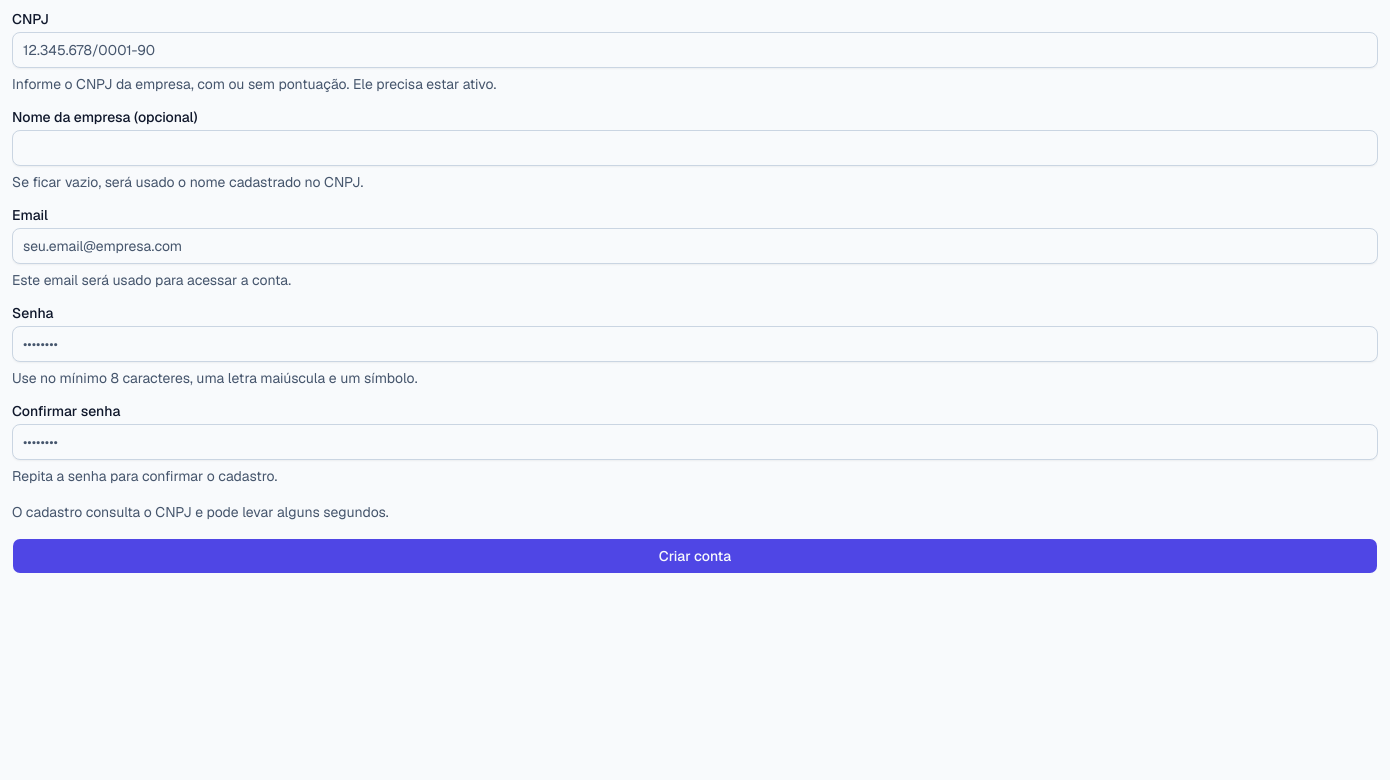
Test case: registration UI › keeps the form and reports action failures
Type "55444333000101" into the field labelled "CNPJ" at coordinates (695, 50), box [12,32,1378,68]
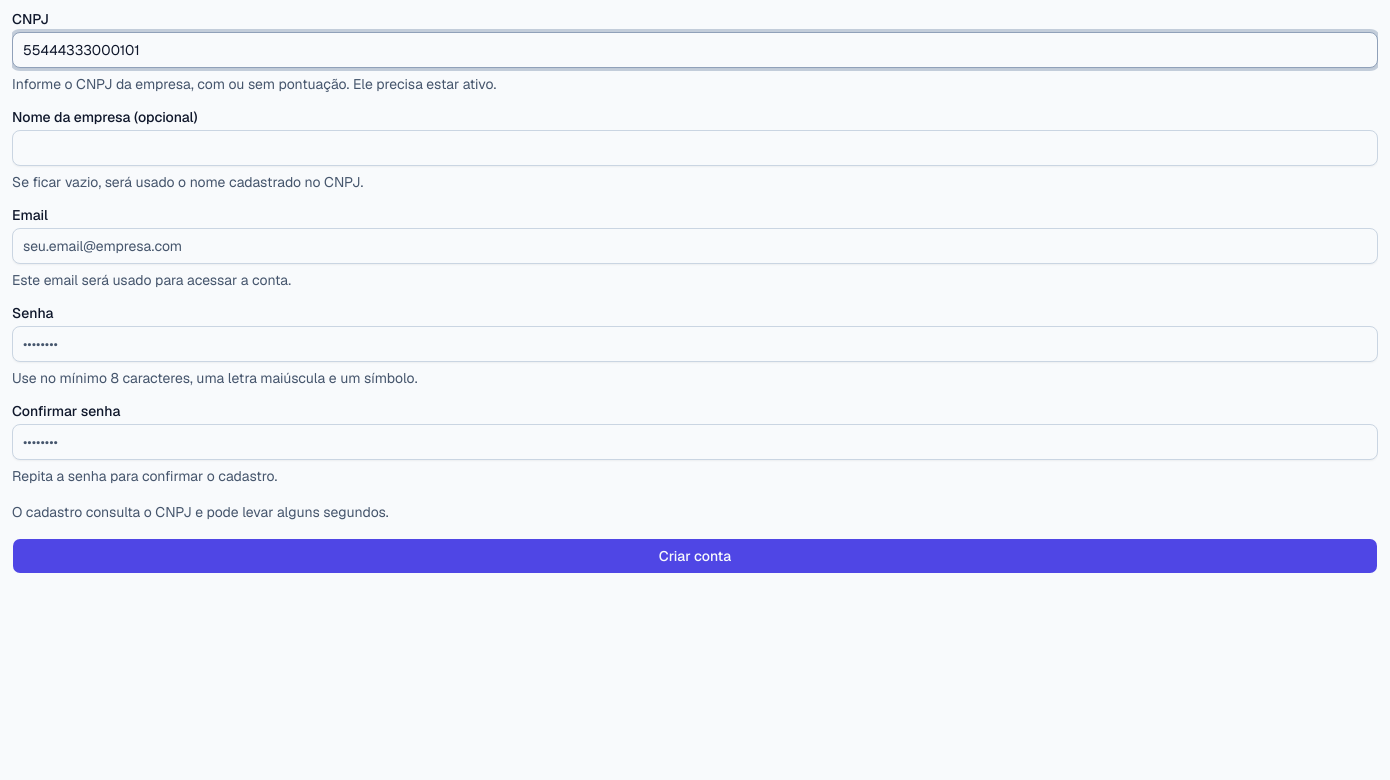
Type "test@example.com" into the field labelled "Email" at coordinates (695, 246), box [12,228,1378,264]
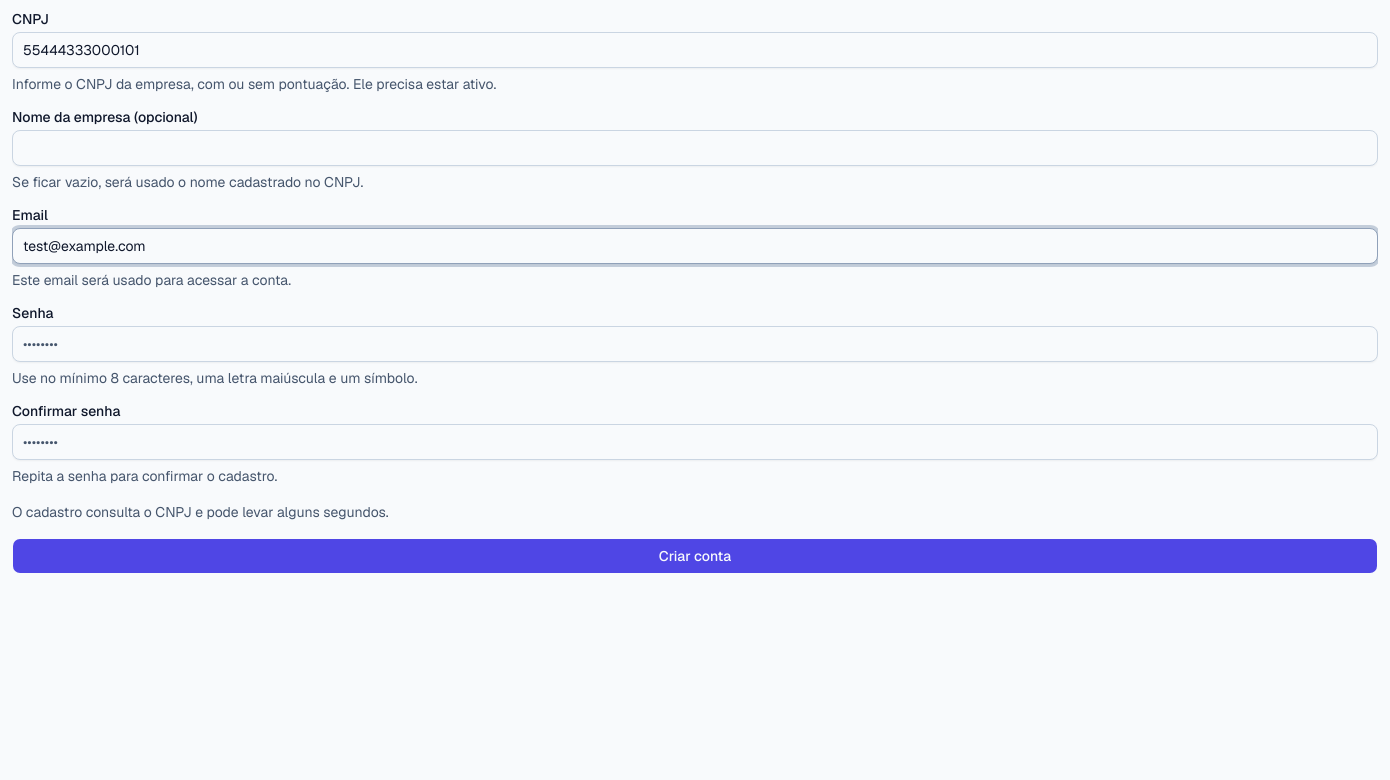
Type "Test-password!" into the password field labelled "Senha" at coordinates (695, 344), box [12,326,1378,362]
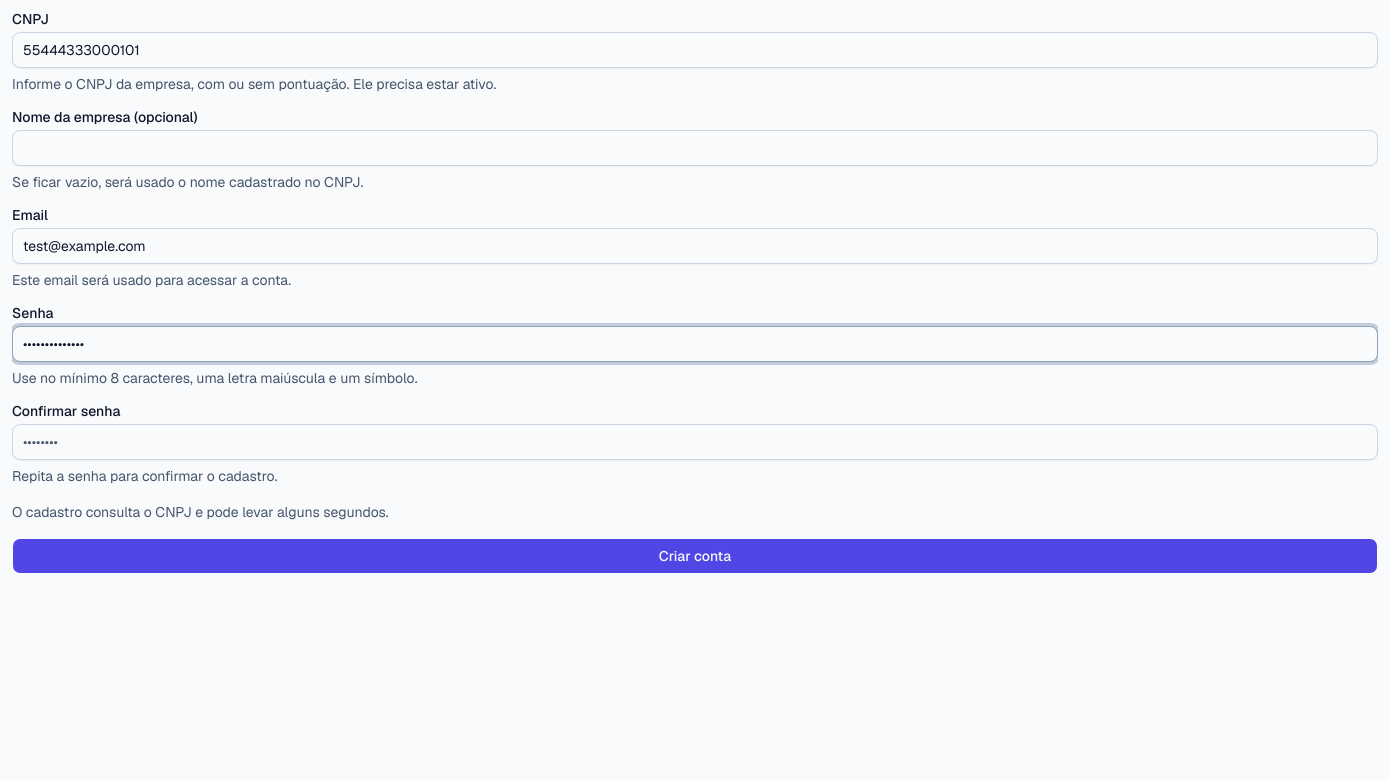
Type "Test-password!" into the password field labelled "Confirmar senha" at coordinates (695, 442), box [12,424,1378,460]
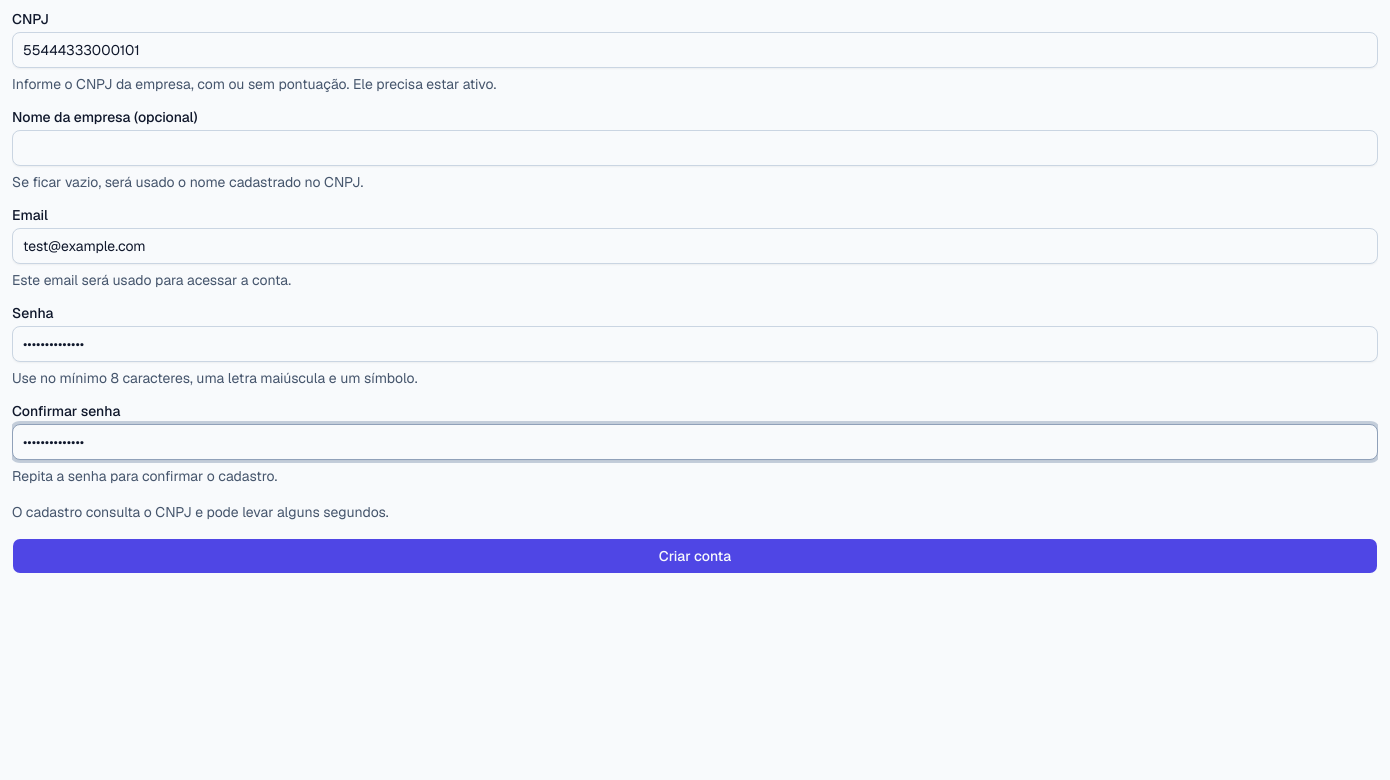
Click the button "Criar conta" at coordinates (695, 556), box [12,538,1378,574]
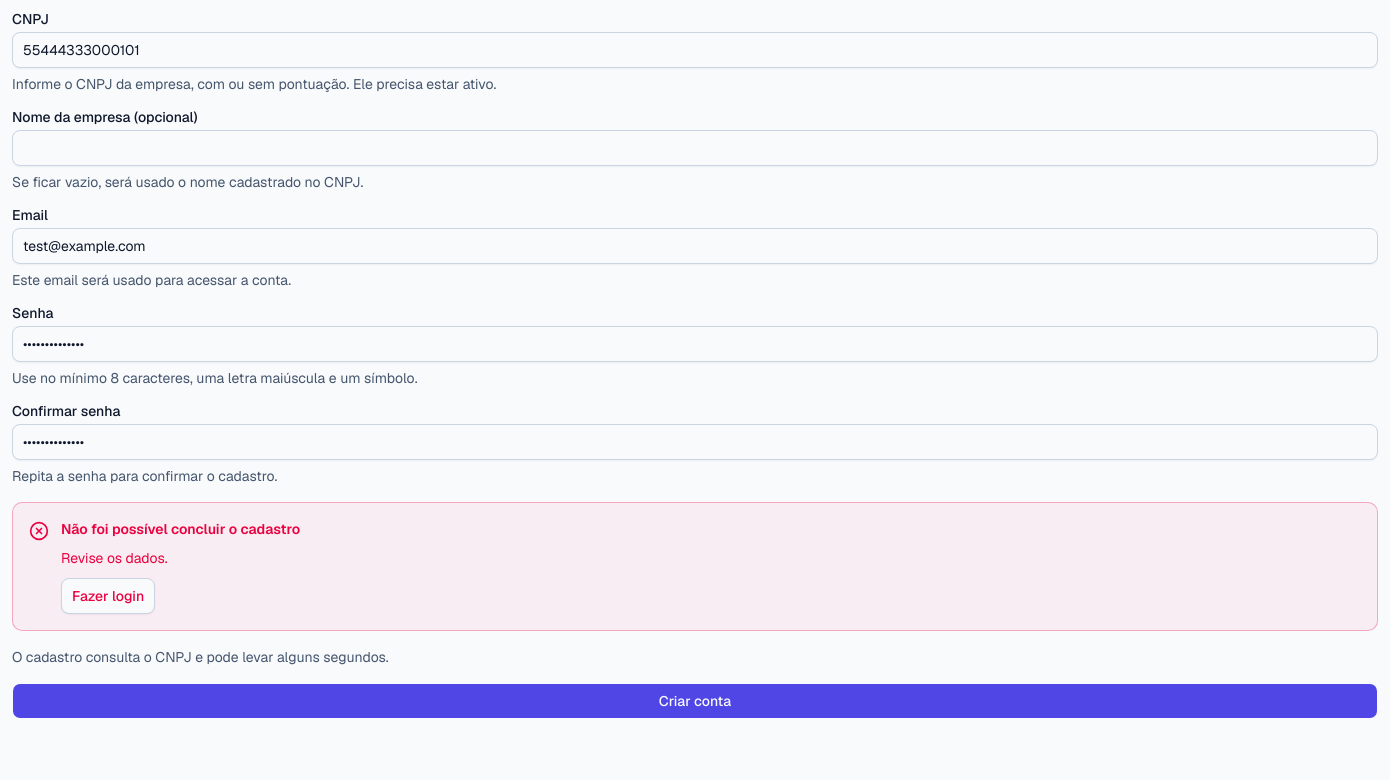
Result: the message shows "Revise os dados." at [61,549,168,567]
